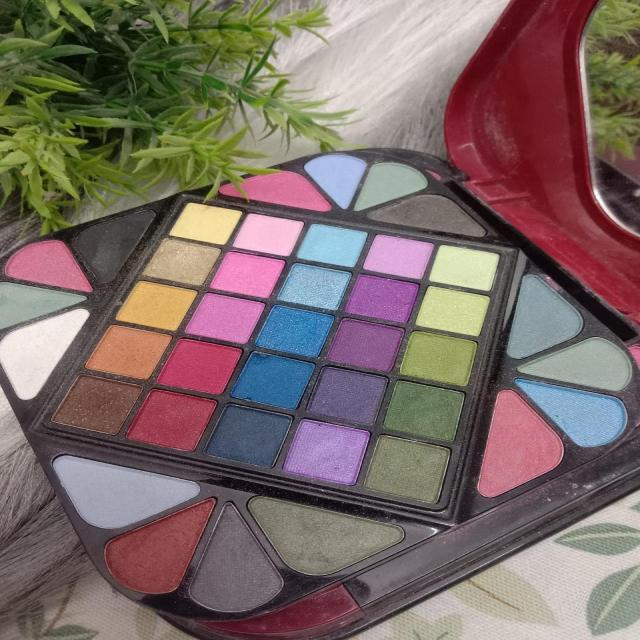eye shade: (0, 118, 627, 640)
